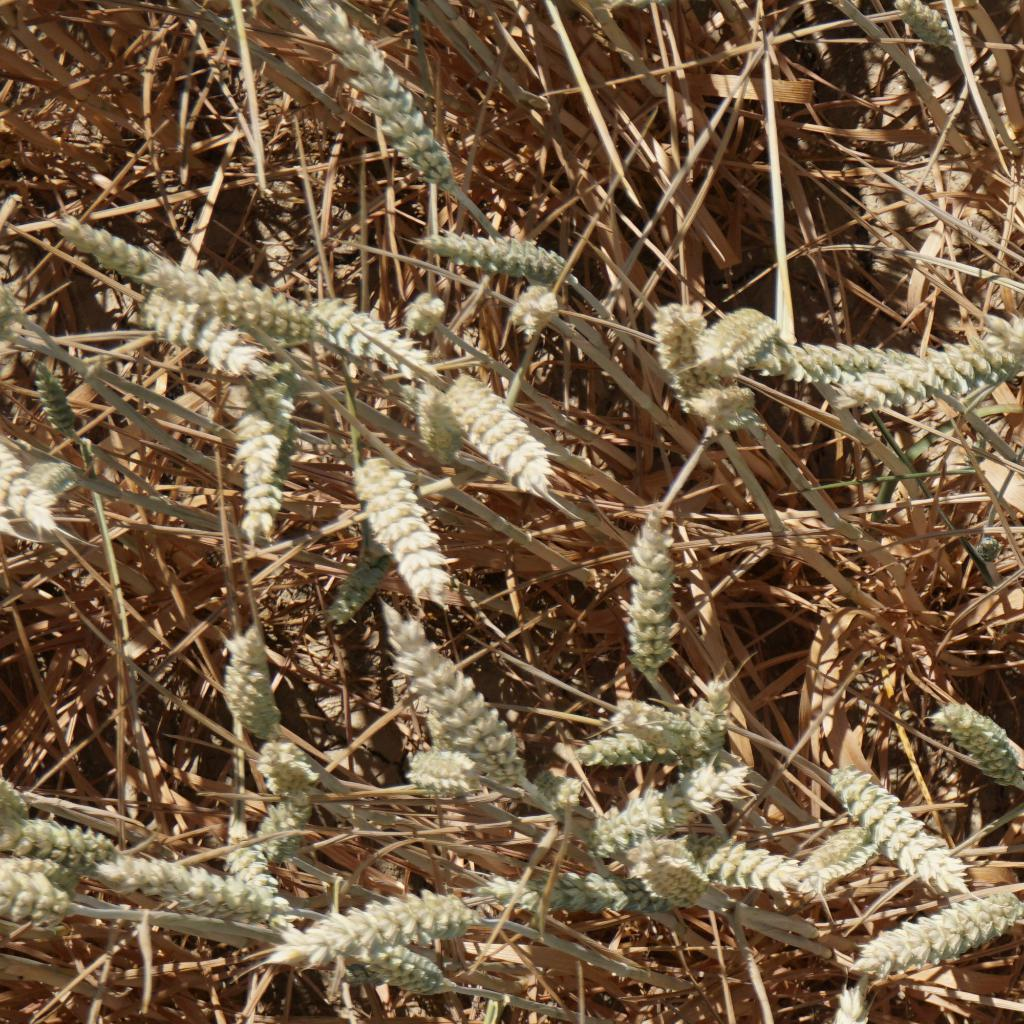0-0: (280, 0, 449, 181), (379, 606, 525, 783), (340, 435, 480, 592), (826, 754, 974, 893), (281, 870, 505, 941), (425, 362, 555, 484), (572, 760, 750, 833), (143, 293, 279, 388), (618, 490, 691, 653), (852, 889, 1021, 958), (923, 687, 1024, 801), (92, 844, 244, 915), (210, 411, 293, 541), (305, 293, 427, 374), (417, 204, 561, 271), (0, 430, 90, 537), (830, 348, 1008, 401), (693, 817, 805, 898), (151, 262, 297, 323), (206, 815, 289, 917), (283, 531, 381, 610), (760, 323, 909, 374), (0, 869, 100, 941), (55, 210, 167, 273), (370, 933, 464, 1002), (224, 628, 291, 724), (388, 376, 464, 460), (801, 801, 876, 886), (622, 826, 702, 905), (32, 361, 102, 444), (695, 299, 775, 370), (637, 289, 698, 379), (518, 854, 602, 915), (11, 807, 108, 858), (403, 740, 478, 805), (238, 779, 309, 846), (736, 986, 854, 1024), (507, 269, 569, 338), (260, 726, 326, 789), (0, 295, 49, 376), (698, 677, 748, 756), (570, 716, 637, 774), (687, 368, 752, 427), (618, 702, 693, 750), (998, 311, 1024, 437), (522, 761, 588, 807), (393, 283, 446, 336)
